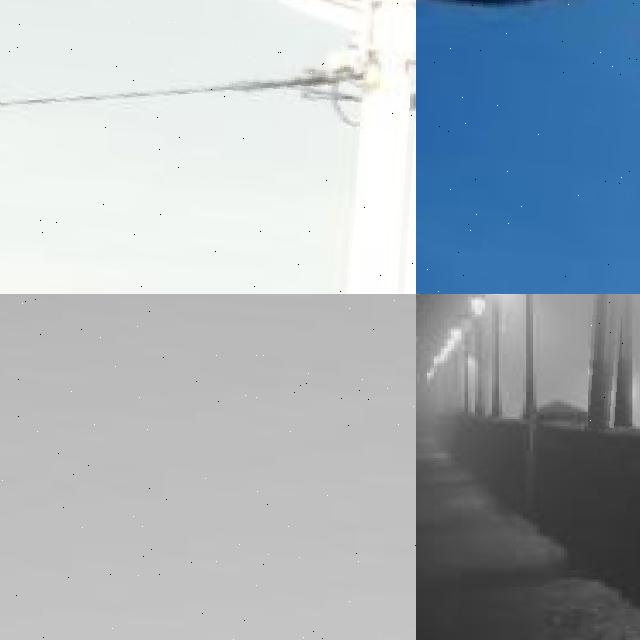street light: (0, 294, 416, 640), (0, 0, 416, 294), (416, 0, 640, 294), (588, 294, 637, 427), (515, 294, 543, 421), (488, 294, 509, 419), (471, 294, 488, 416), (461, 302, 477, 413), (451, 319, 465, 413), (448, 332, 461, 411)
